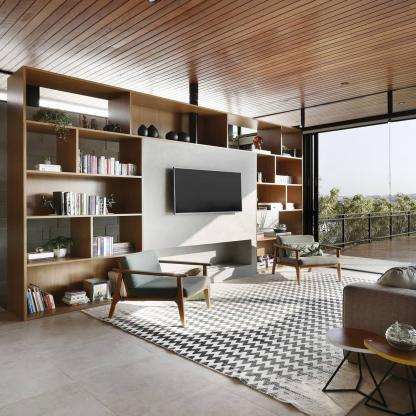buku: (53, 191, 107, 216), (80, 153, 136, 175), (27, 285, 56, 312)
kursi: (112, 253, 215, 332), (275, 232, 347, 282)
tv: (172, 167, 245, 216)
